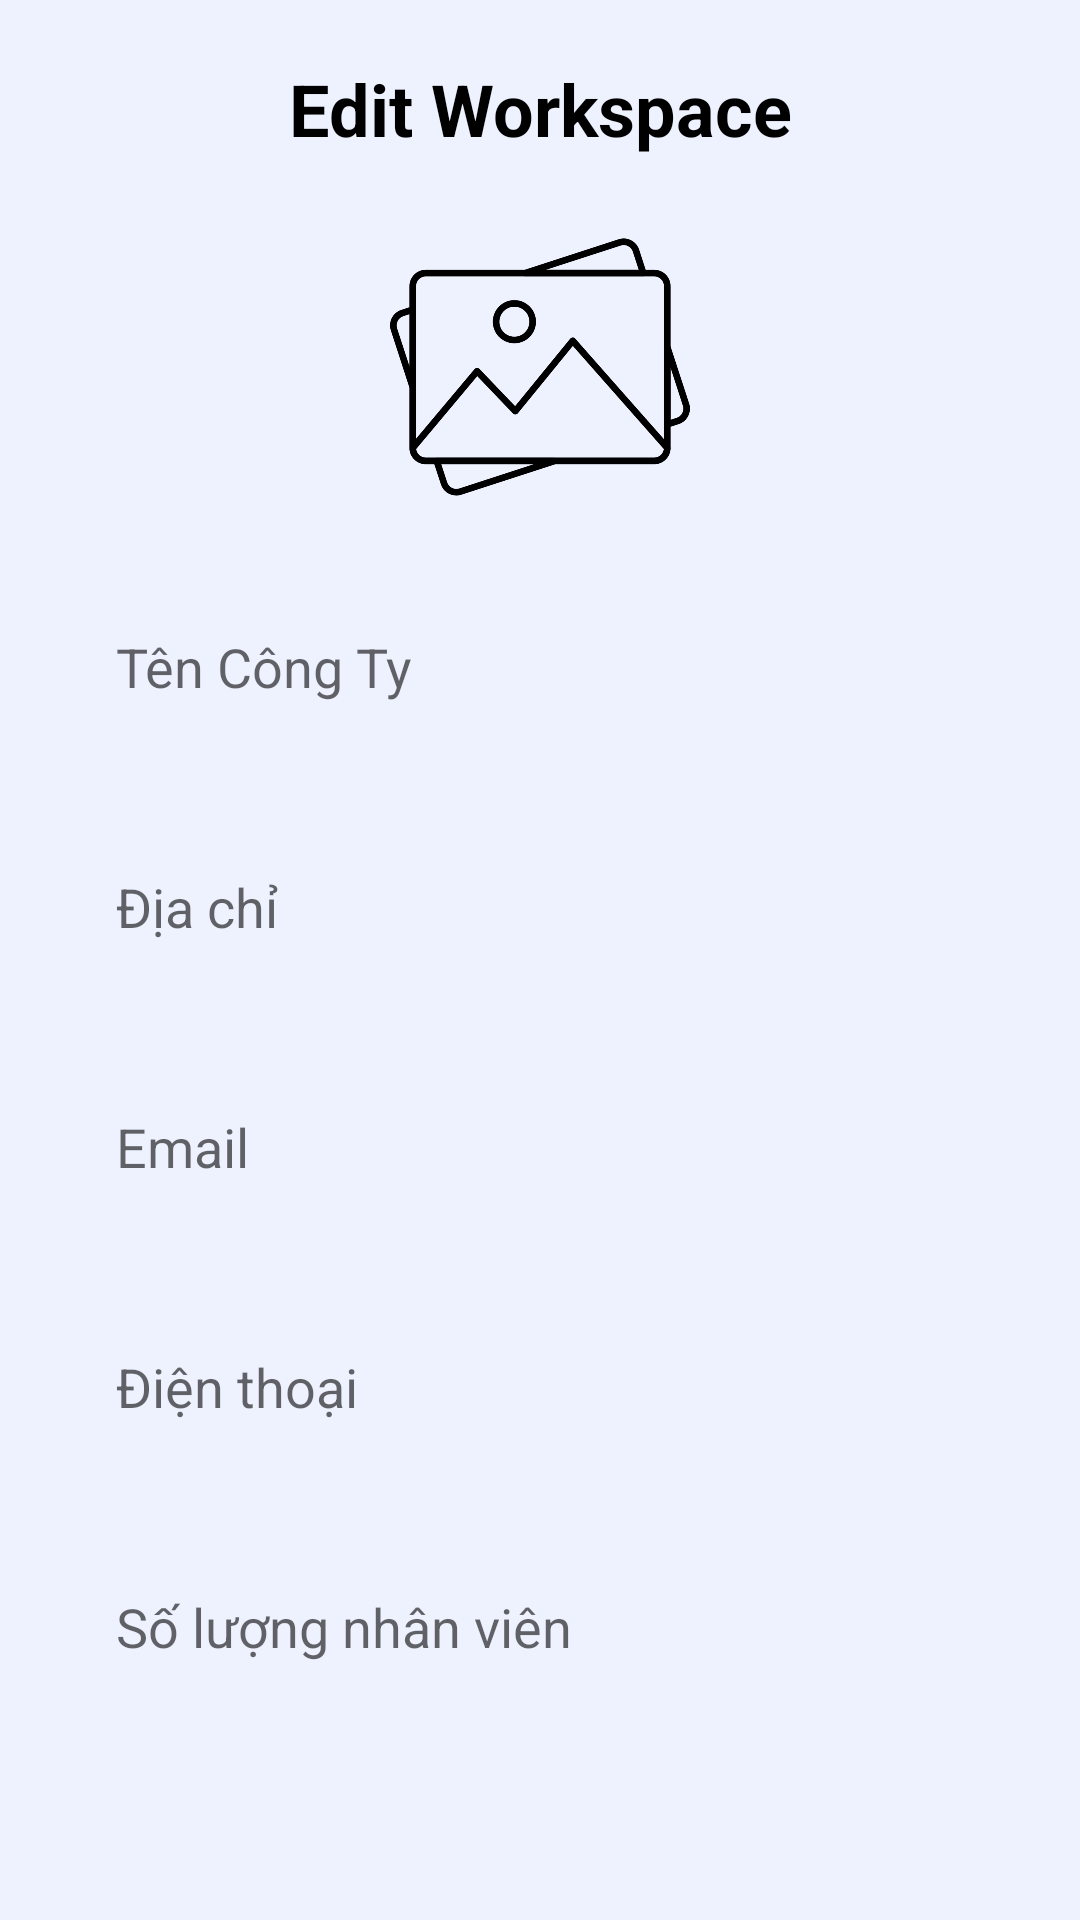

Point at icon controls on the screen. Image size 1080px x 1920px, points as [x,y].
add image: [540,367]
